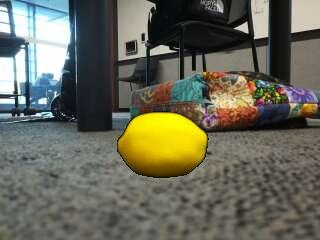lemon: (118, 113, 206, 178)
